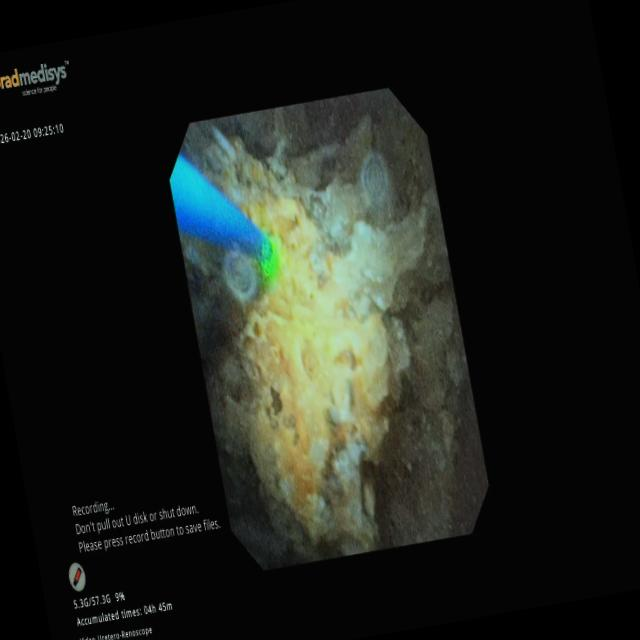stone-new: (182, 109, 464, 558)
